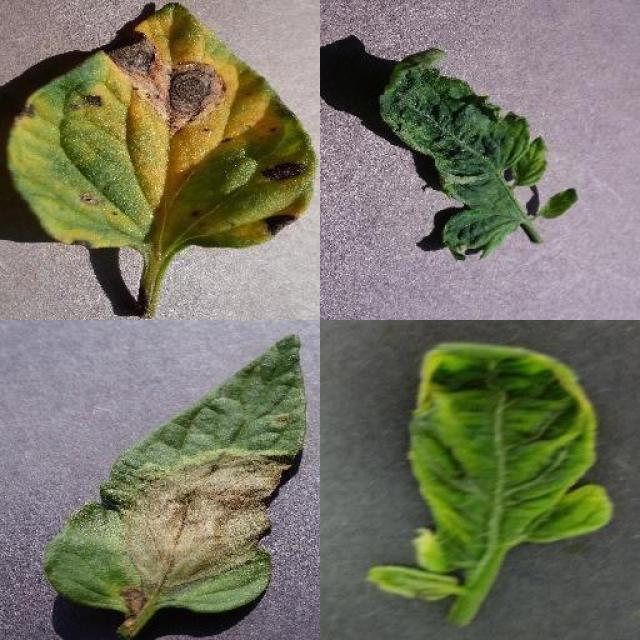Early Blight: (5, 1, 315, 251)
Late Blight: (42, 332, 308, 618)
